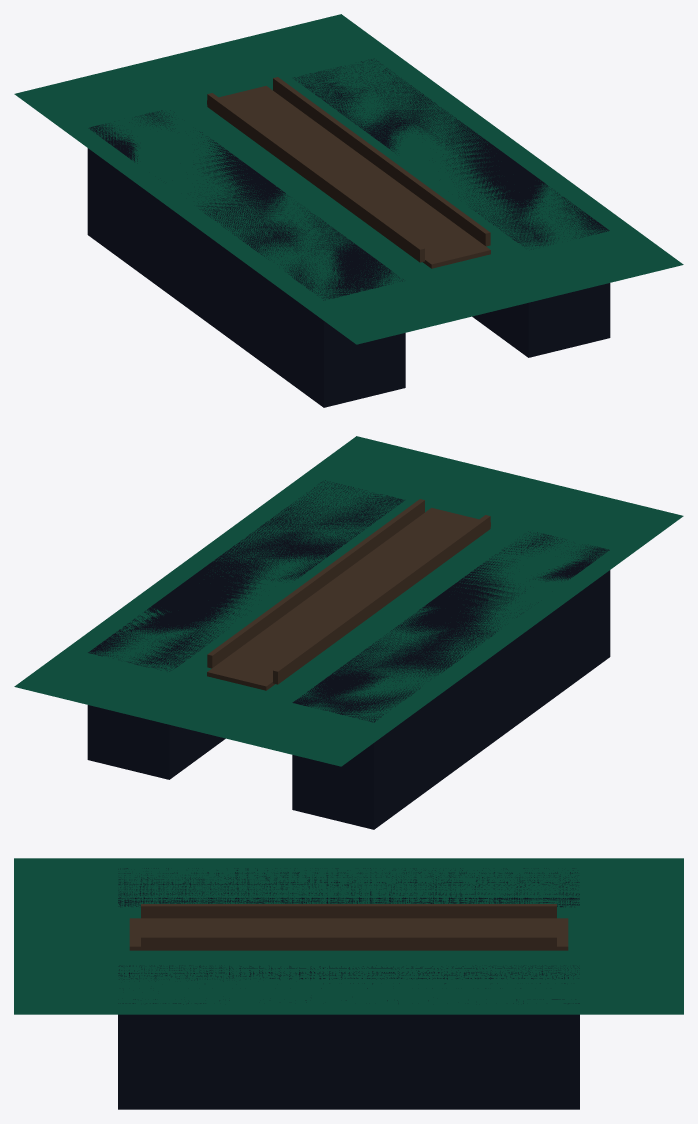
The model's file is nor_06.glb.
3 views of the same model, one above another, from view 1: azimuth 30°, elevation 25°; view 2: azimuth 150°, elevation 25°; view 3: azimuth 270°, elevation 25° (orthographic). The views are drawn at different scales.
Visible parts, largest first — view 1: scenario_base_floor, NOR_06; view 2: scenario_base_floor, NOR_06; view 3: scenario_base_floor, NOR_06.
Boxes of the visible parts, x1,y1,x2,y2 form: scenario_base_floor: (14, 14, 683, 344); NOR_06: (87, 58, 610, 407); scenario_base_floor: (14, 436, 683, 766); NOR_06: (87, 480, 610, 829); scenario_base_floor: (14, 858, 683, 1014); NOR_06: (118, 868, 579, 1109).
Size of the model in its own units: 32 by 11.5 by 58.
